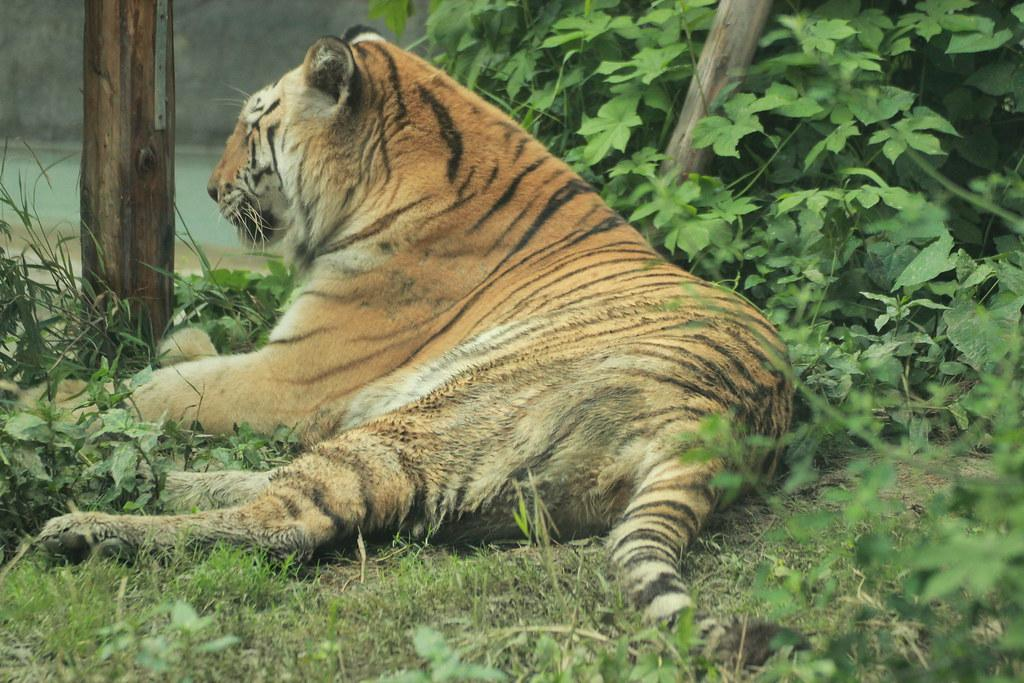tiger: (4, 23, 806, 665)
